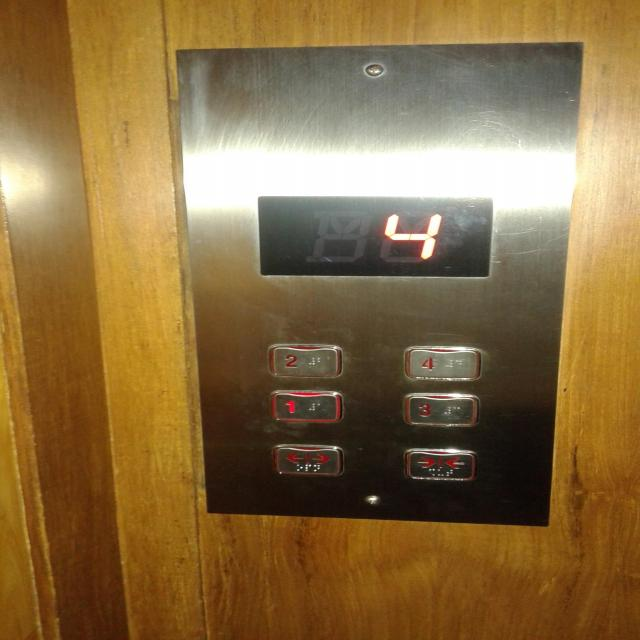1: (267, 389, 344, 423)
2: (266, 342, 343, 378)
3: (402, 392, 480, 427)
4: (402, 344, 484, 382)
close: (401, 447, 479, 481)
led: (247, 190, 498, 282)
open: (270, 442, 344, 477)
